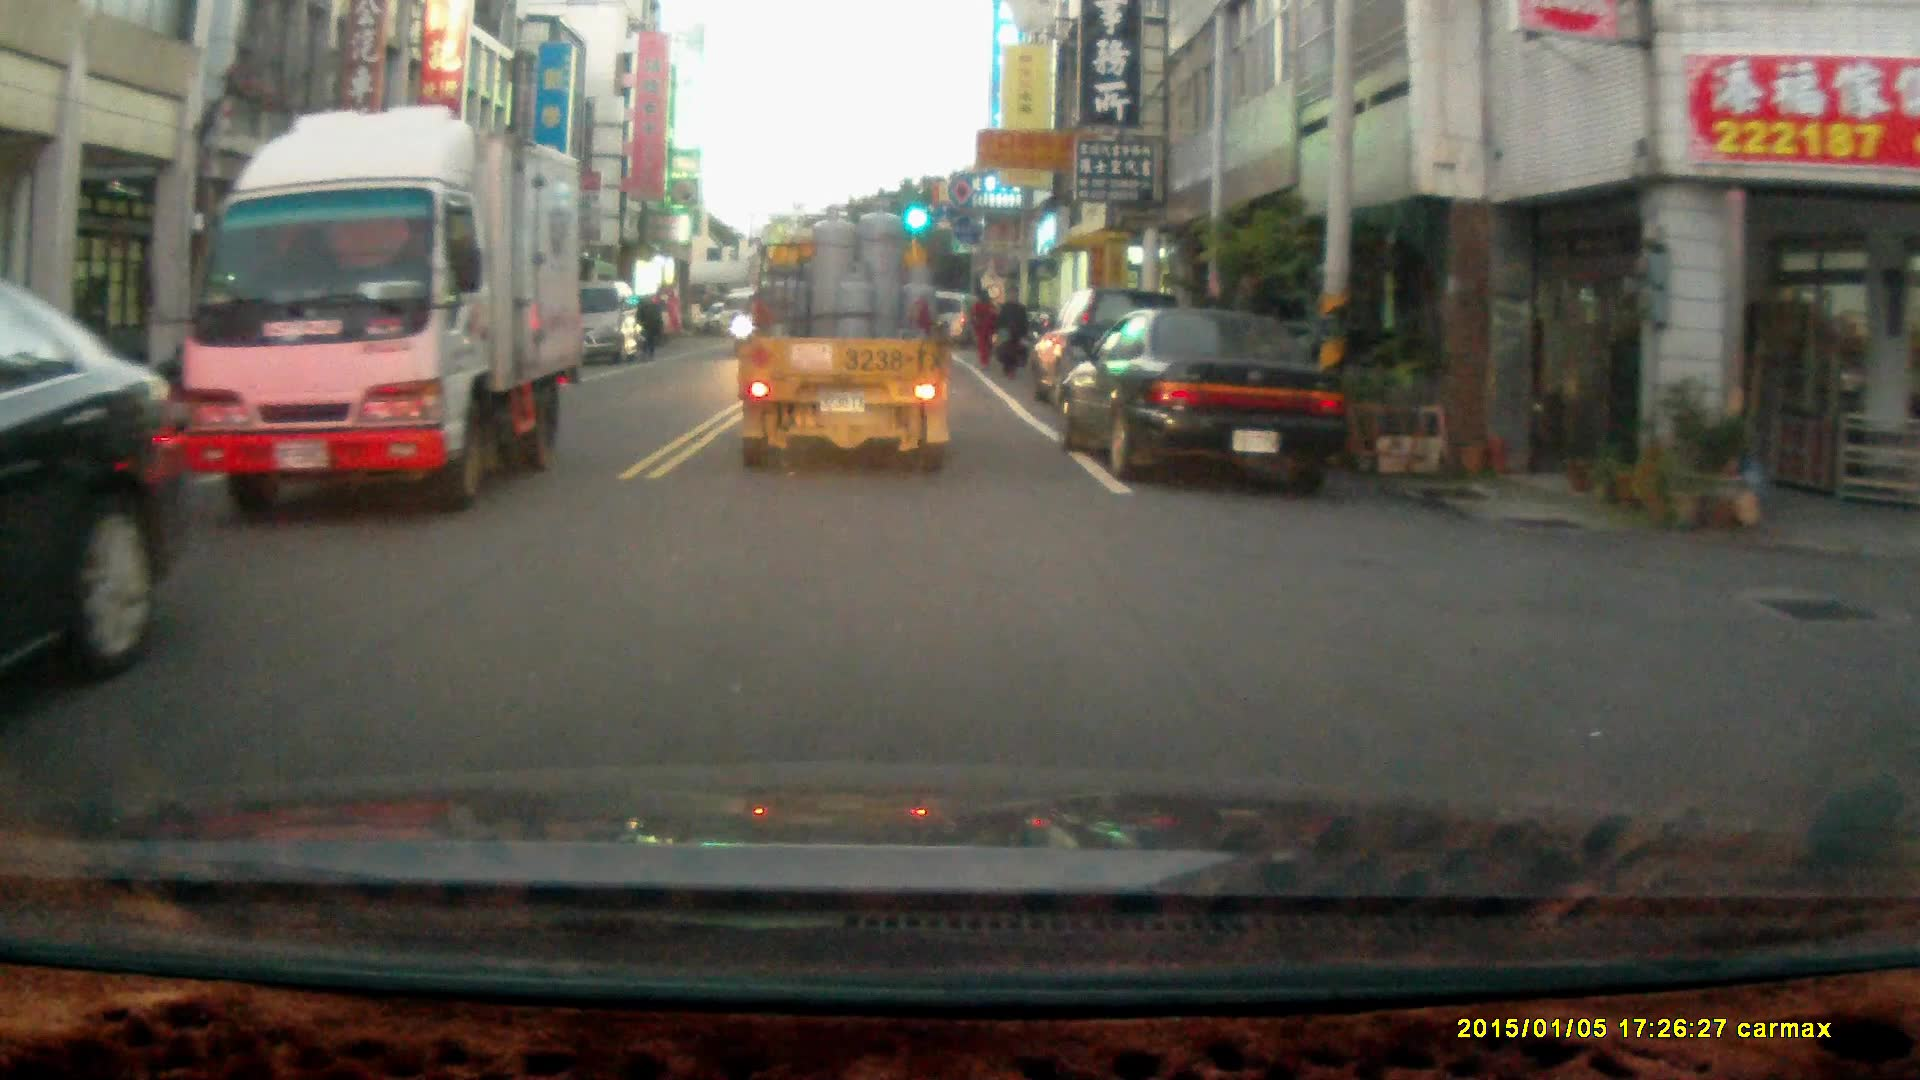pedestrian: (992, 285, 1027, 380), (964, 286, 997, 367), (632, 292, 662, 361)
vehicle: (182, 106, 586, 519), (1, 288, 189, 693), (732, 192, 961, 477), (1060, 307, 1350, 489), (581, 277, 645, 365)
